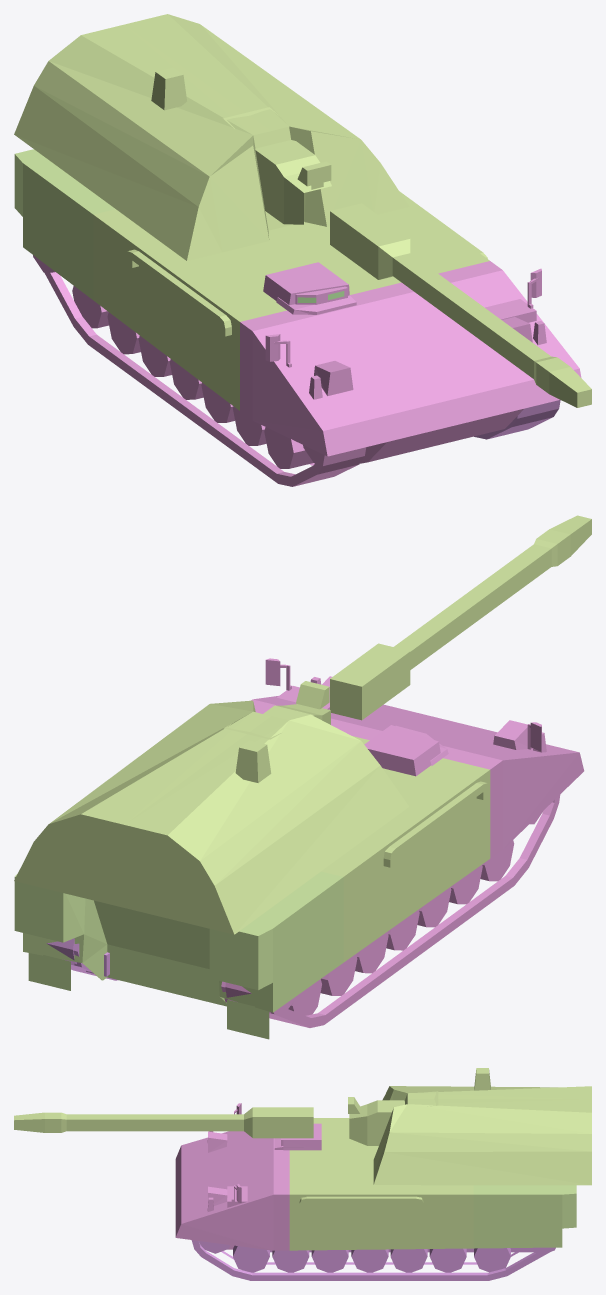
Rendered from land-tracked-tnk-01-artillery.glb.
3 views of the same model, one above another, from view 1: azimuth 30°, elevation 25°; view 2: azimuth 150°, elevation 25°; view 3: azimuth 270°, elevation 25° (orthographic). The views are drawn at different scales.
Visible parts, largest first — view 1: CC_TNK_02_Body, CC_TNK_02_Turret_Spin, CC_TNK_02_Turret_Barrel, CC_TNK_02_Turret_Pitch; view 2: CC_TNK_02_Body, CC_TNK_02_Turret_Spin, CC_TNK_02_Turret_Barrel, CC_TNK_02_Turret_Pitch; view 3: CC_TNK_02_Body, CC_TNK_02_Turret_Spin, CC_TNK_02_Turret_Barrel, CC_TNK_02_Turret_Pitch.
Boxes of the visible parts, x1,y1,x2,y2 form: CC_TNK_02_Body: (14, 149, 581, 486); CC_TNK_02_Turret_Spin: (14, 14, 409, 260); CC_TNK_02_Turret_Barrel: (330, 203, 591, 407); CC_TNK_02_Turret_Pitch: (223, 107, 331, 224); CC_TNK_02_Body: (14, 658, 584, 1039); CC_TNK_02_Turret_Spin: (14, 700, 409, 934); CC_TNK_02_Turret_Barrel: (330, 515, 591, 720); CC_TNK_02_Turret_Pitch: (224, 681, 330, 739); CC_TNK_02_Body: (175, 1103, 576, 1280); CC_TNK_02_Turret_Spin: (373, 1068, 591, 1185); CC_TNK_02_Turret_Barrel: (14, 1107, 313, 1138); CC_TNK_02_Turret_Pitch: (348, 1091, 438, 1145).
Size of what is drawn, in the model's own units: 3.86 by 3.43 by 11.16.
